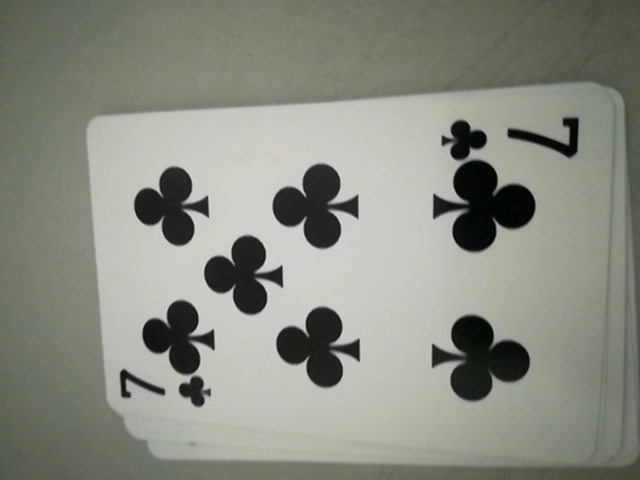mh 7: (436, 106, 587, 164), (112, 365, 211, 418)
